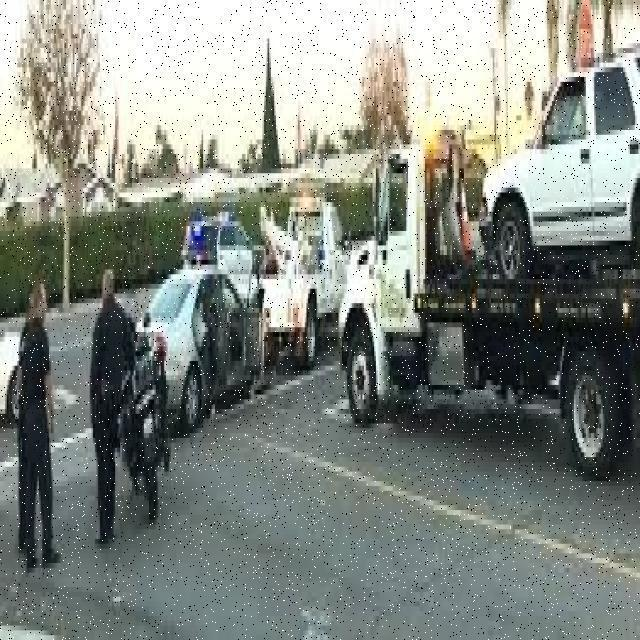accident: (158, 246, 278, 430)
